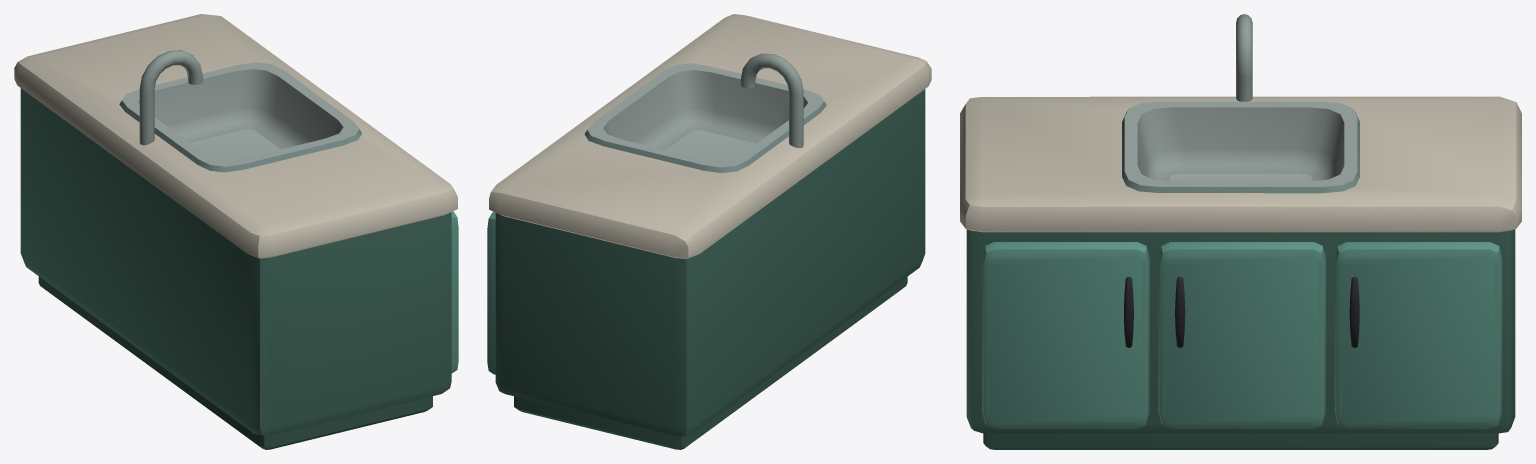
File: nightstand.glb
3 renders of one model, left to right at view 1: azimuth 30°, elevation 25°; view 2: azimuth 150°, elevation 25°; view 3: azimuth 270°, elevation 25°, orthographic. The views are drawn at different scales.
Visible parts, largest first — view 1: nightstand; view 2: nightstand; view 3: nightstand.
Boxes of the visible parts, <box> form: nightstand: <box>14,14,458,449</box>; nightstand: <box>487,14,931,449</box>; nightstand: <box>960,14,1521,449</box>.
Size of the model in its own units: 1.04 by 1.38 by 2.
